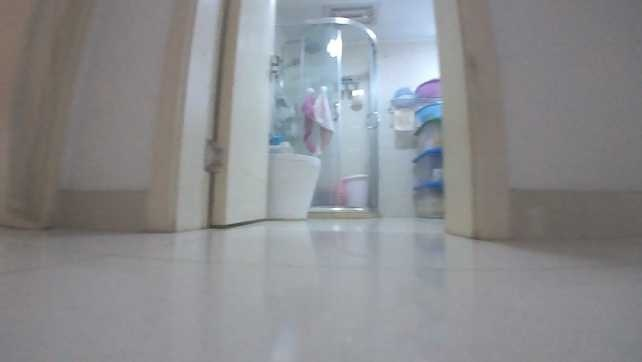door_anno: (145, 1, 281, 231)
toilet_part: (267, 150, 319, 220)
